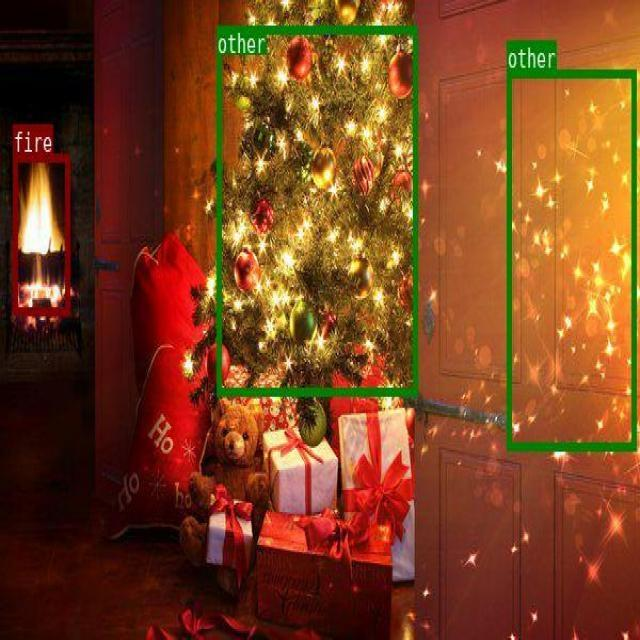fire: (12, 152, 69, 313)
